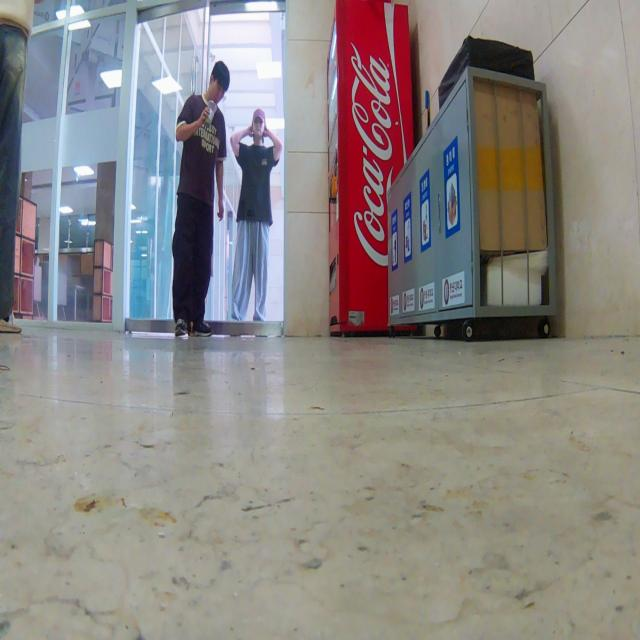target: (188, 318, 195, 337)
